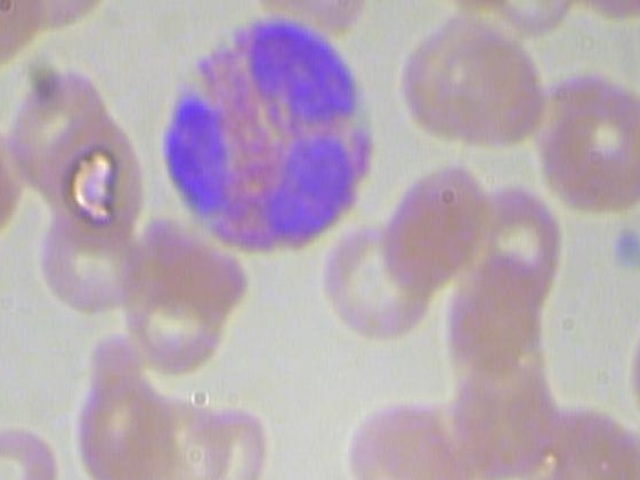Platelets: (602, 221, 640, 282)
RBC: (394, 10, 554, 163), (35, 102, 153, 258), (377, 157, 497, 291), (538, 71, 640, 222), (318, 221, 442, 342), (34, 203, 151, 324), (70, 361, 178, 480), (162, 400, 282, 480), (0, 409, 62, 480)
WBC: (151, 0, 387, 263)
